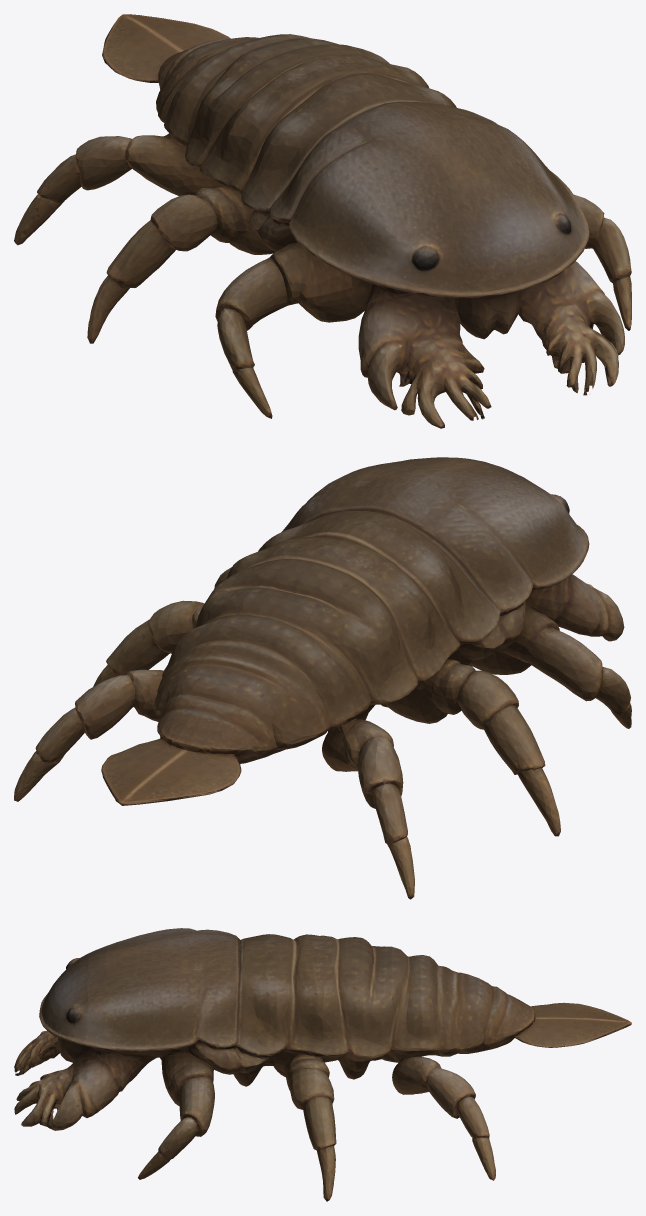
The picture shows the model from 3 angles, top to bottom: view 1: azimuth 30°, elevation 25°; view 2: azimuth 150°, elevation 25°; view 3: azimuth 270°, elevation 25°; orthographic projection. The views are drawn at different scales.
Parts seen in each view (by area): view 1: world; view 2: world; view 3: world.
Part boxes in pixels (x1,y1,x2,y2): world: (14,14,631,428); world: (14,457,631,899); world: (14,928,631,1201).
Size of the model in its own units: 0.6658 by 0.311 by 1.
8 materials, 1 textured.
